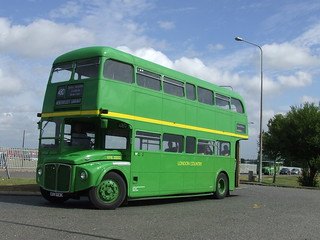bus: (36, 45, 249, 210)
